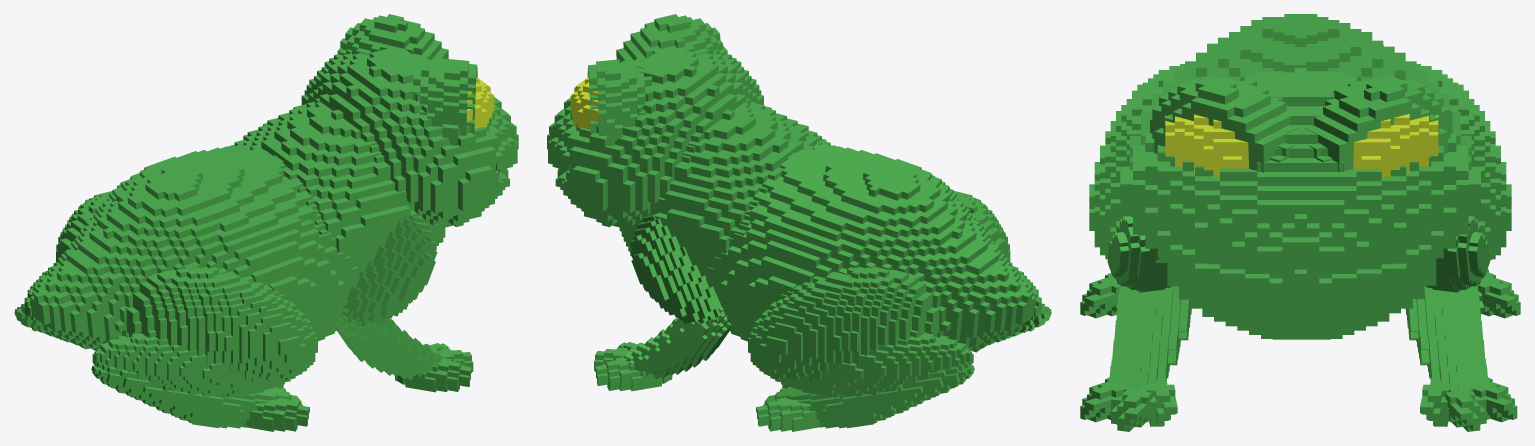
The model's file is Frog.fbx.
3 views of the same model, side by side, from view 1: azimuth 30°, elevation 25°; view 2: azimuth 150°, elevation 25°; view 3: azimuth 270°, elevation 25° (orthographic). The views are drawn at different scales.
Visible parts, largest first — view 1: Sphere; view 2: Sphere; view 3: Sphere.
Boxes of the visible parts, box(x1,y1,x2,y2) form: Sphere: box(14, 14, 518, 431); Sphere: box(547, 14, 1051, 431); Sphere: box(1080, 14, 1520, 431).
Bounding box in the file's own units: 548 × 317 × 343.
